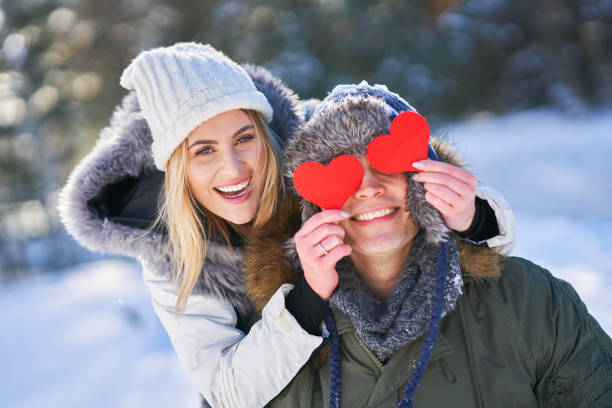without mask: (178, 108, 276, 232), (321, 145, 419, 269)
